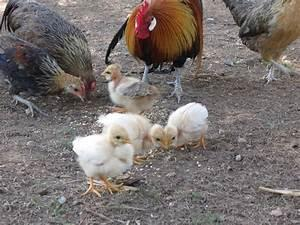hen: (104, 0, 204, 103), (0, 0, 97, 97), (213, 0, 299, 85)
